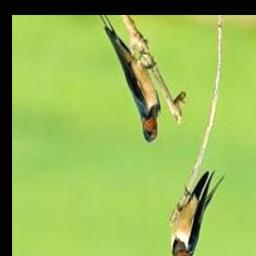Swallow: (99, 15, 161, 144), (170, 170, 224, 256)
